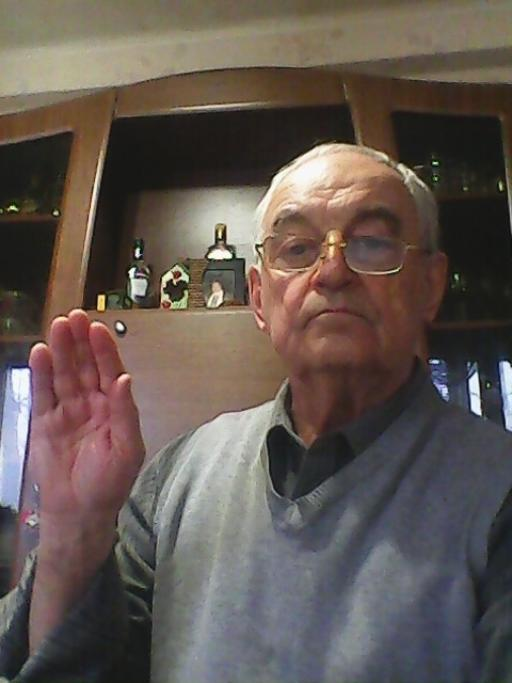stop: (21, 304, 155, 524)
